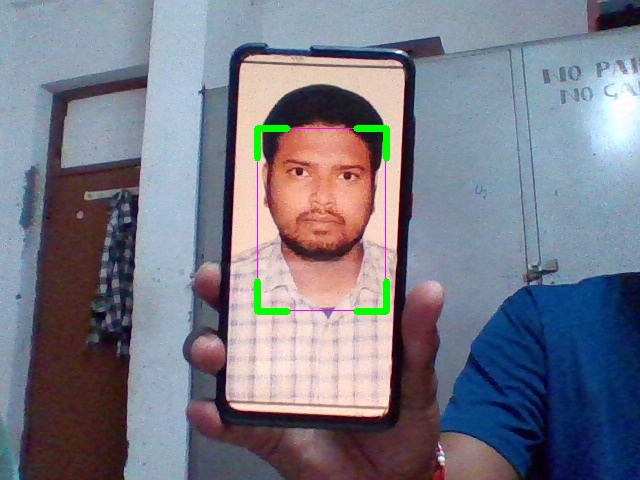fake: (257, 128, 386, 311)
